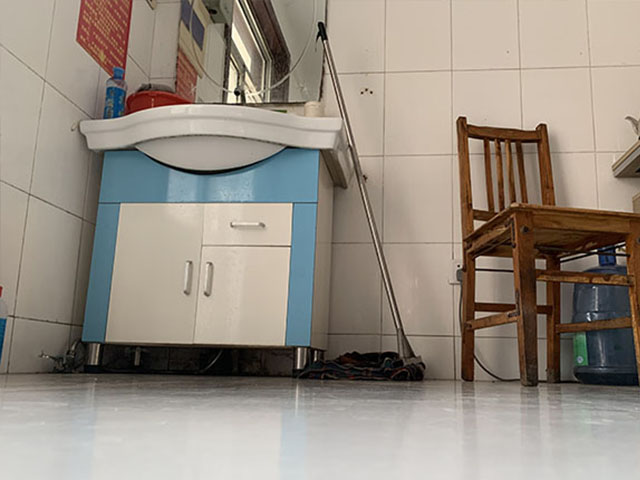cabinet: (74, 102, 355, 380)
stool: (452, 114, 640, 386)
